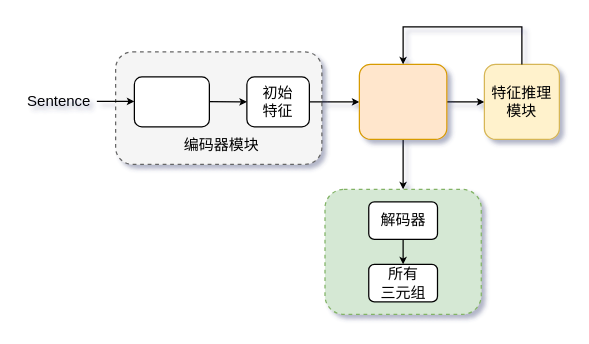
The diagram is 589 pixels wide and 344 high, and some of its shapes have lost their labels. The centre of each missing label's shape, as x and y in pixels:
"表特征 填充模块" belongs at point (402, 101).
"词嵌入" belongs at point (171, 101).
